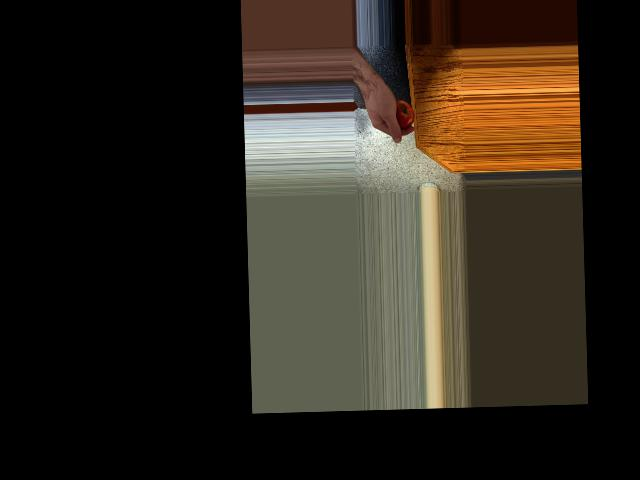apple: (380, 95, 416, 130)
